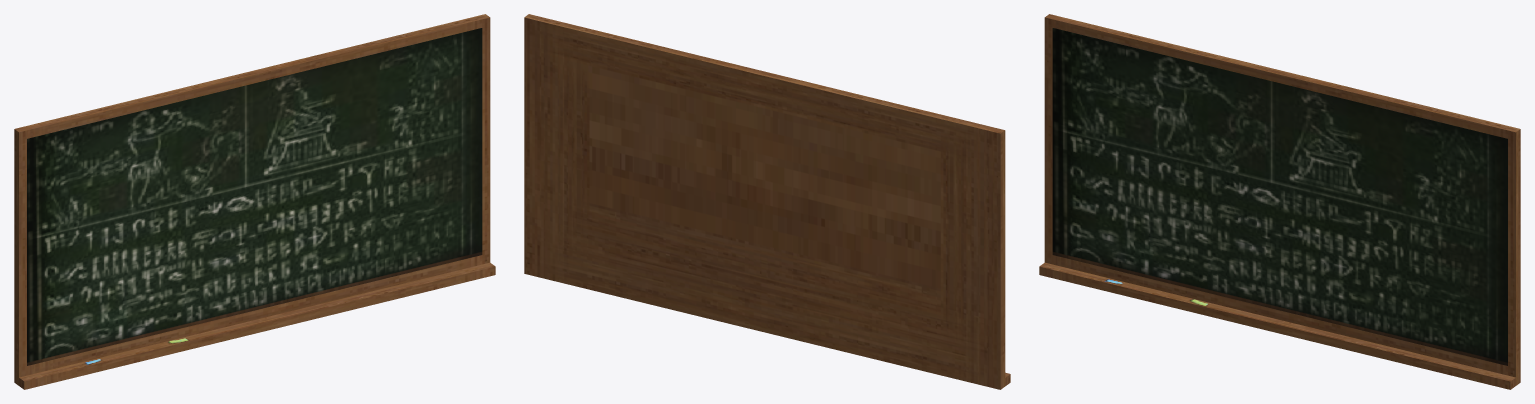
File: Blackboard.FBX
3 views of the same model, side by side, from view 1: azimuth 30°, elevation 25°; view 2: azimuth 150°, elevation 25°; view 3: azimuth 330°, elevation 25° (orthographic).
Parts seen in each view (by area): view 1: Blackboard; view 2: Blackboard; view 3: Blackboard.
Part boxes in pixels (x1,y1,x2,y2): Blackboard: (14, 14, 495, 389); Blackboard: (524, 14, 1010, 389); Blackboard: (1039, 14, 1520, 389).
Bounding box in the file's own units: 230 × 118 × 8.53.
